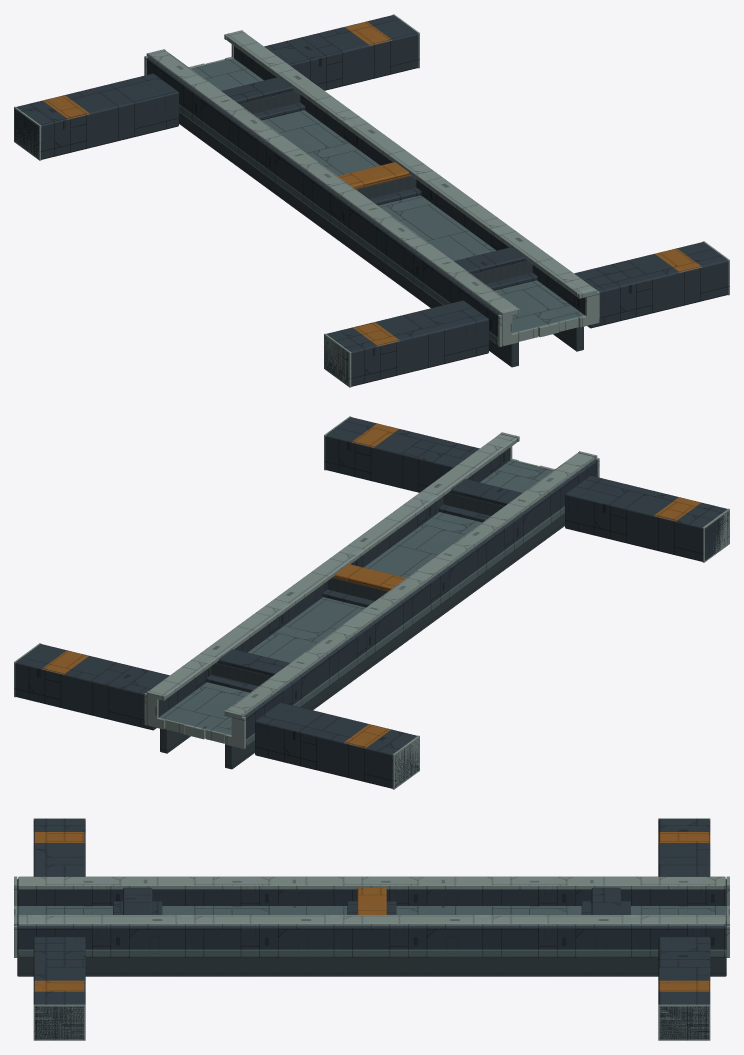
File: place_ceres_second_measure_long_plate.glb
3 views of the same model, one above another, from view 1: azimuth 30°, elevation 25°; view 2: azimuth 150°, elevation 25°; view 3: azimuth 270°, elevation 25° (orthographic).
Parts seen in each view (by area): view 1: LOD0_Armor, LOD0_BrushedMetal, LOD0_Hull, LOD1_Armor, LOD1_Hull, LOD0_Mechanical, LOD0_Livery; view 2: LOD0_Armor, LOD0_BrushedMetal, LOD0_Hull, LOD1_Armor, LOD1_Hull, LOD0_Mechanical, LOD0_Livery; view 3: LOD0_Armor, LOD0_BrushedMetal, LOD1_Armor, LOD0_Mechanical, LOD0_Hull, LOD1_Hull, LOD0_Livery, LOD1_BrushedMetal, LOD2_Hull, LOD2_Armor.
Part boxes in pixels (<box>): LOD0_Armor: <box>14,15,728,386</box>; LOD0_BrushedMetal: <box>14,14,729,387</box>; LOD0_Hull: <box>179,58,584,344</box>; LOD1_Armor: <box>14,18,728,386</box>; LOD1_Hull: <box>179,59,583,344</box>; LOD0_Mechanical: <box>179,91,583,367</box>; LOD0_Livery: <box>43,21,701,346</box>; LOD0_Armor: <box>15,417,729,788</box>; LOD0_BrushedMetal: <box>14,416,729,789</box>; LOD0_Hull: <box>159,460,564,746</box>; LOD1_Armor: <box>16,417,725,788</box>; LOD1_Hull: <box>162,461,564,746</box>; LOD0_Mechanical: <box>160,492,564,769</box>; LOD0_Livery: <box>42,423,700,748</box>; LOD0_Armor: <box>17,819,726,1039</box>; LOD0_BrushedMetal: <box>14,818,729,1040</box>; LOD1_Armor: <box>17,819,726,1038</box>; LOD0_Mechanical: <box>17,957,726,976</box>; LOD0_Hull: <box>17,906,726,957</box>; LOD1_Hull: <box>17,906,726,957</box>; LOD0_Livery: <box>33,832,710,991</box>; LOD1_BrushedMetal: <box>17,876,726,953</box>; LOD2_Hull: <box>17,906,725,957</box>; LOD2_Armor: <box>17,884,726,949</box>.
Bounding box in the file's own units: 34 × 5 × 55.
5 materials, 5 textured.
